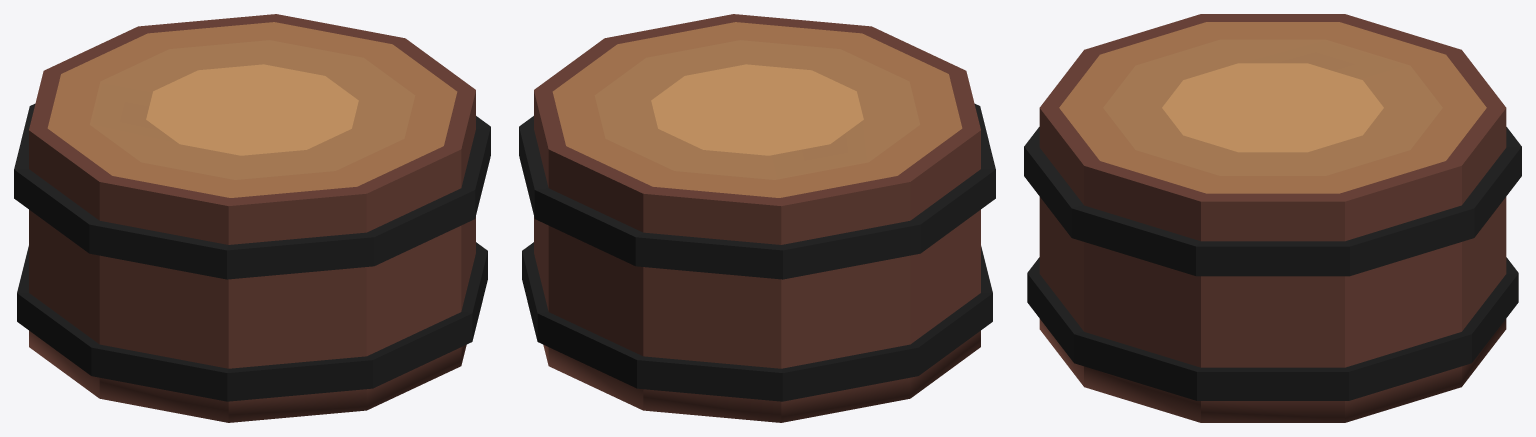
Rendered from stump_with_rings.fbx.
The picture shows the model from 3 angles, left to right: view 1: azimuth 30°, elevation 25°; view 2: azimuth 150°, elevation 25°; view 3: azimuth 270°, elevation 25°; orthographic projection. The views are drawn at different scales.
Parts seen in each view (by area): view 1: stump.001; view 2: stump.001; view 3: stump.001.
Boxes of the visible parts, bbox=[...] form: stump.001: bbox=[14, 14, 490, 422]; stump.001: bbox=[519, 14, 995, 422]; stump.001: bbox=[1024, 14, 1521, 422].
Bounding box in the file's own units: 33.37 × 17.22 × 35.09.
